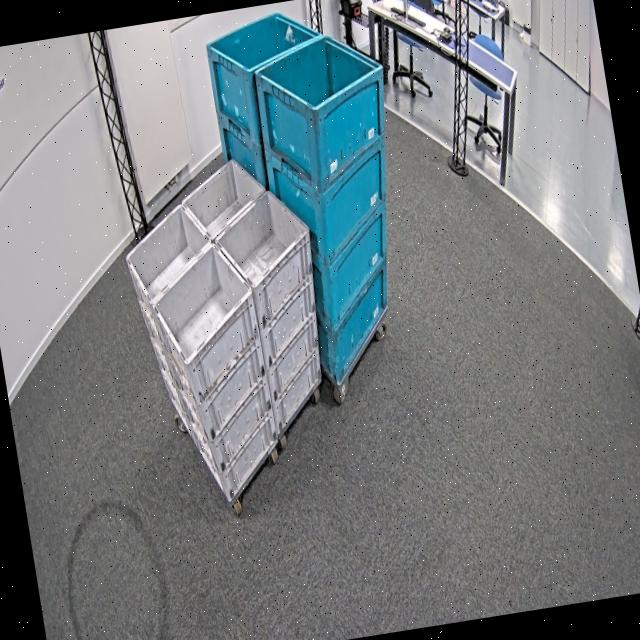Roll8G: (117, 192, 265, 376), (173, 148, 318, 302)
RollB4: (250, 22, 389, 120), (201, 0, 327, 80)
